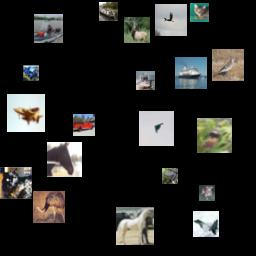airplane: (7, 94, 45, 132), (139, 111, 174, 146), (193, 211, 219, 237)
automobile: (23, 65, 39, 81)
bird: (197, 118, 232, 153), (155, 4, 187, 36), (212, 49, 244, 81), (33, 191, 65, 223)
cat: (0, 167, 32, 199), (190, 3, 209, 22)
deer: (124, 17, 150, 43)
dog: (199, 185, 215, 201)
frog: (162, 168, 178, 184)
ship: (175, 57, 207, 89), (34, 14, 63, 43), (136, 71, 155, 90), (99, 2, 118, 21)
truck: (73, 114, 95, 136)
